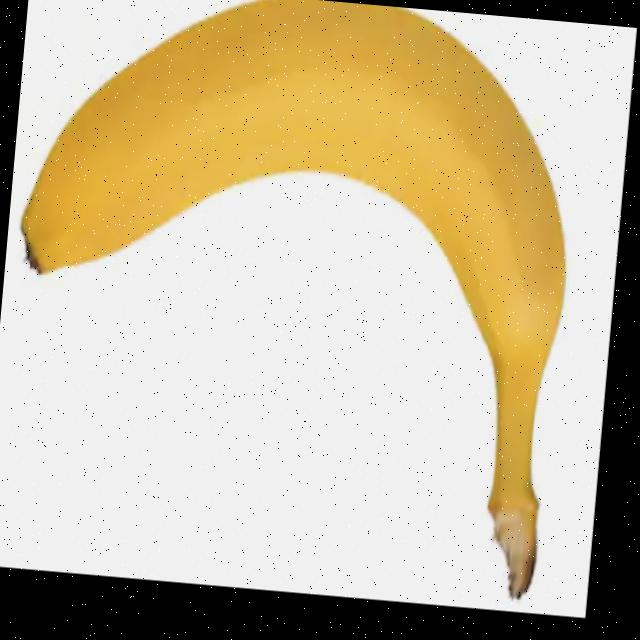Ripe: (0, 0, 589, 513)
